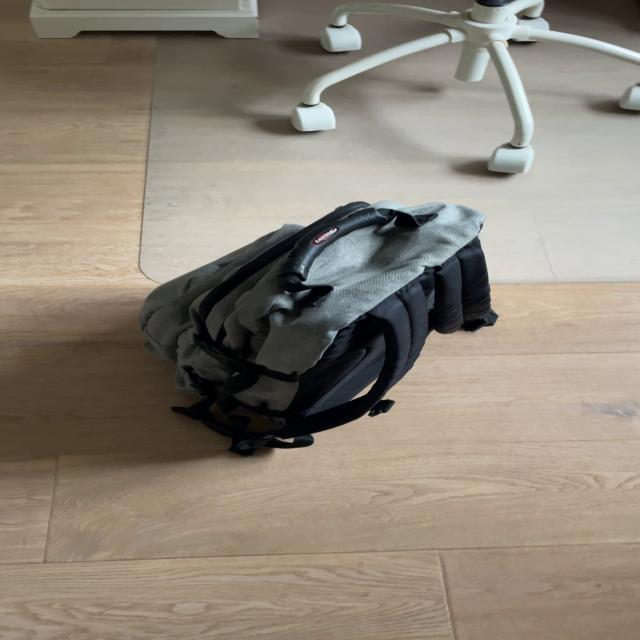backpack: (125, 188, 512, 459)
